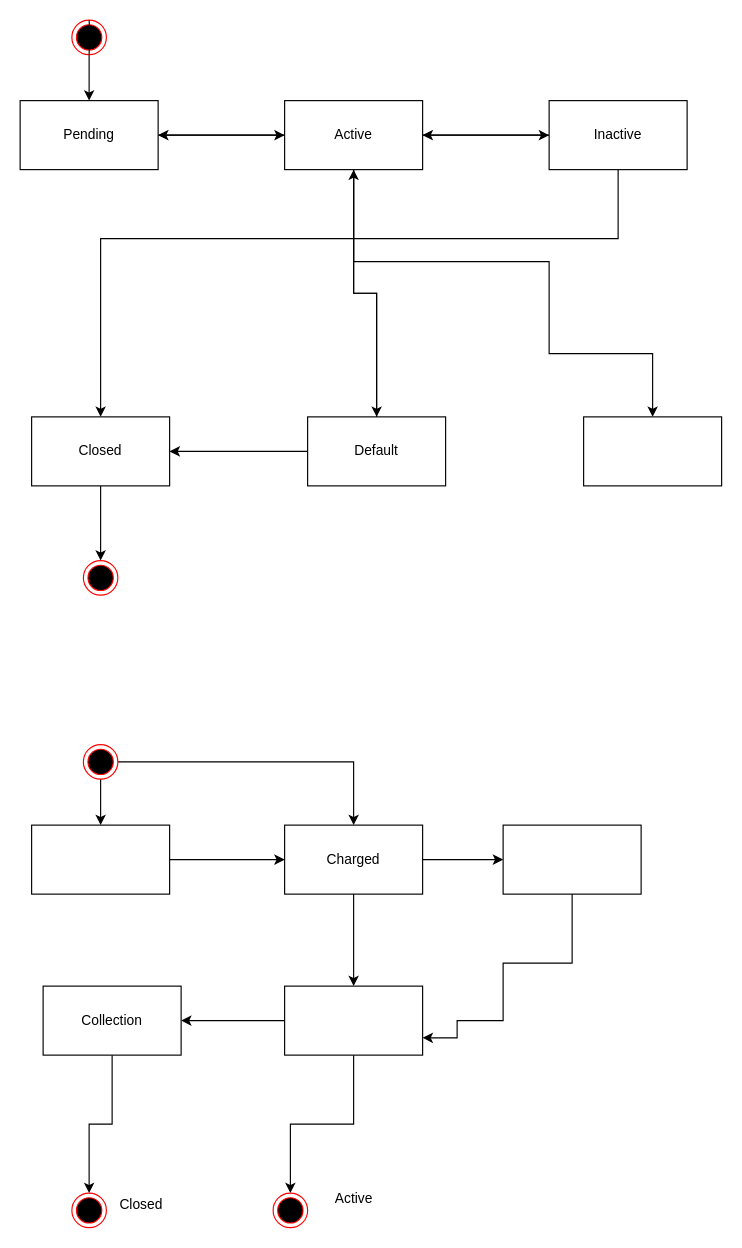
This 742x1248 diagram has some shape labels left out. The centre of each missing label's shape, as x and y in pixels:
"Grace" goes at (100,859).
"Healthy" goes at (571,859).
"Suspended" goes at (652,451).
"Unhealthy" goes at (353,1020).
